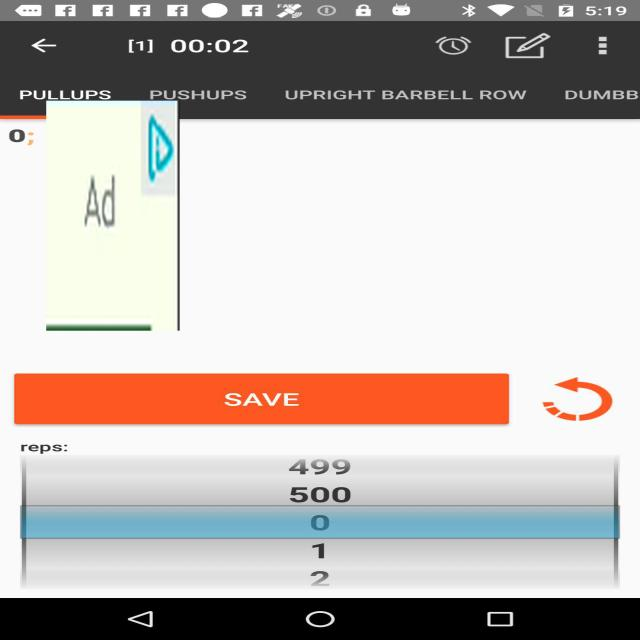sneaking: (46, 100, 180, 330)
